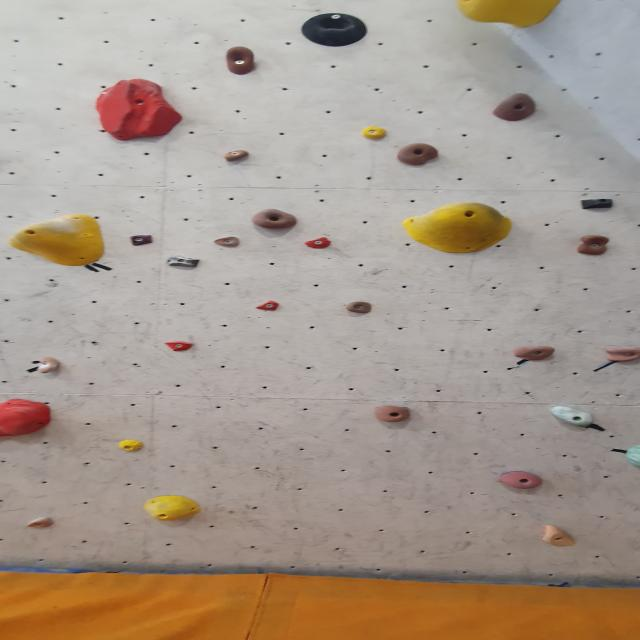Crimp: (93, 77, 188, 141), (357, 125, 391, 144), (208, 236, 246, 252), (301, 236, 335, 252), (161, 340, 197, 355), (253, 300, 287, 315), (26, 517, 58, 532), (219, 148, 251, 163), (126, 234, 157, 248), (117, 440, 148, 454)
Jug: (489, 92, 541, 125), (394, 142, 441, 167), (495, 469, 547, 491), (222, 47, 260, 77), (372, 404, 416, 426), (508, 345, 557, 364), (574, 235, 612, 258), (602, 346, 639, 365), (32, 356, 65, 375), (342, 300, 374, 316)
Pinch: (548, 404, 598, 432), (537, 524, 579, 549), (163, 253, 203, 270), (578, 196, 616, 213)
Pocket: (295, 10, 376, 51)
Sloper: (398, 200, 516, 258), (6, 214, 111, 269), (452, 0, 566, 32), (0, 400, 56, 440), (141, 494, 203, 524), (248, 207, 301, 231), (625, 443, 640, 470)
